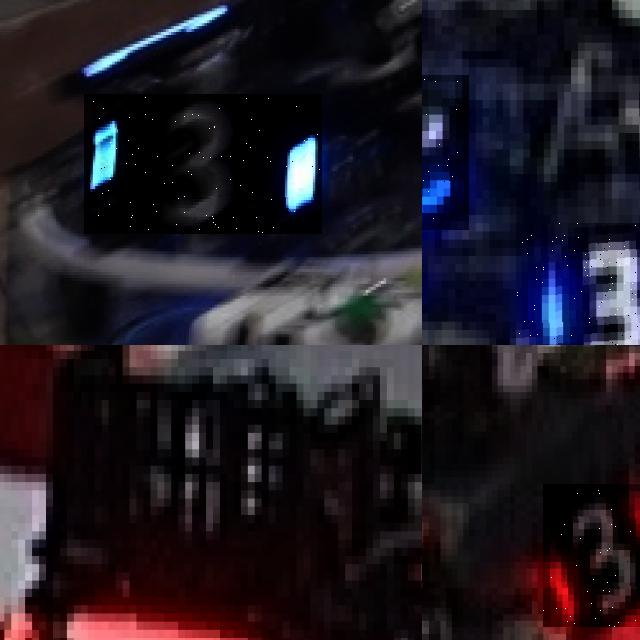B3: (84, 94, 322, 234), (516, 223, 640, 345), (422, 75, 468, 231)
R3: (543, 483, 640, 627)
